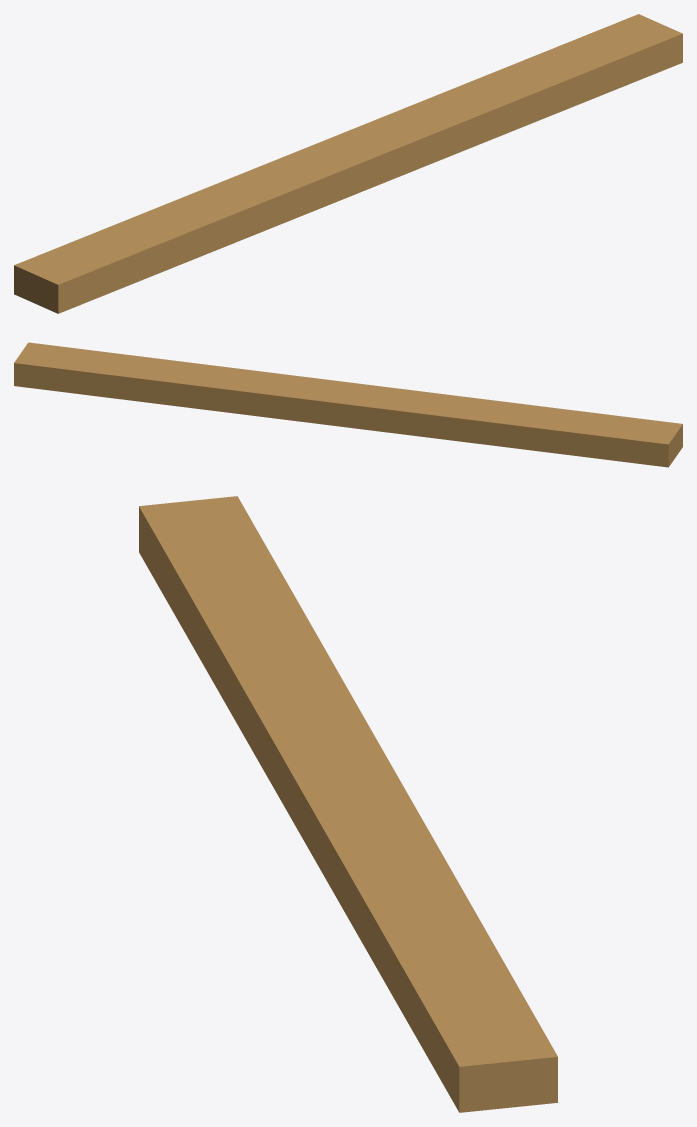
3 renders of one model, top to bottom at view 1: azimuth 30°, elevation 25°; view 2: azimuth 150°, elevation 25°; view 3: azimuth 270°, elevation 25°, orthographic. The views are drawn at different scales.
Visible parts, largest first — view 1: __delivery_mesh_5142; view 2: __delivery_mesh_5142; view 3: __delivery_mesh_5142.
Part boxes in pixels (x1,y1,x2,y2): __delivery_mesh_5142: [14, 14, 682, 313]; __delivery_mesh_5142: [14, 342, 682, 467]; __delivery_mesh_5142: [139, 496, 557, 1112].
Bounding box in the file's own units: 1.2 × 0.045 × 0.3716.
